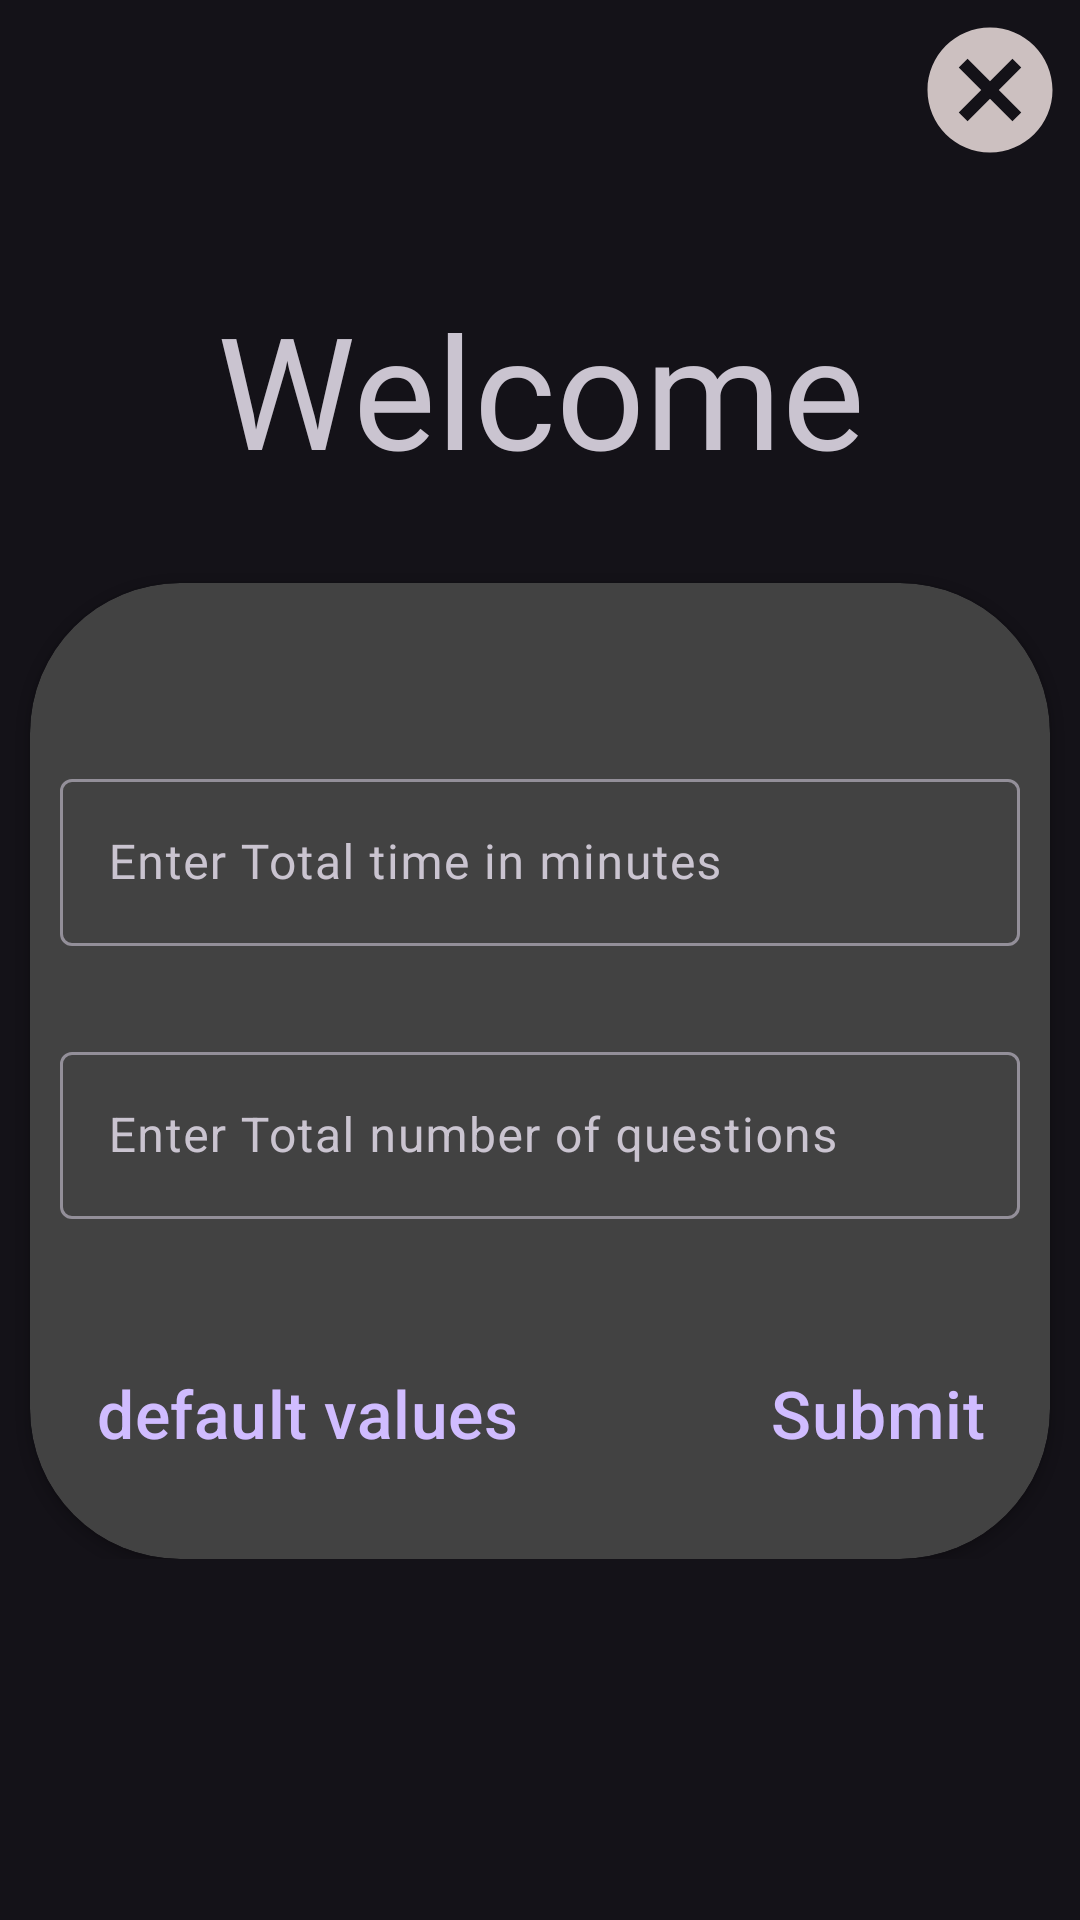

Where icons sit on this 1080×1920 app screen, as bbox=(x1, y1, x2, y2):
No need: bbox=(927, 27, 1053, 153)
